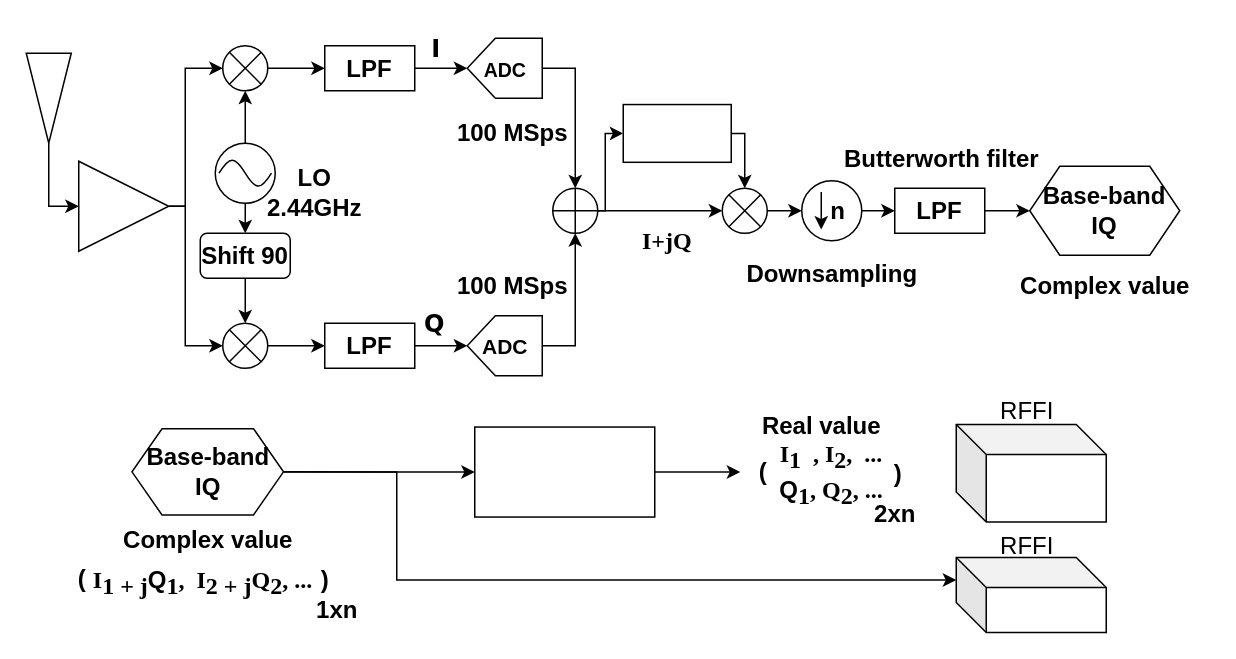
Image size: 1236x659. Some labels were removed from this diagram. The shapes that lost their labels are listed below. From the top down, each one's centre as x and y in pixels, then its label:
At point 676,132: "F h removing".
At point 123,205: "LNA".
At point 564,471: "IQ splitting".
At point 1030,472: "RV-CNN".
At point 1030,594: "CV-CNN".
